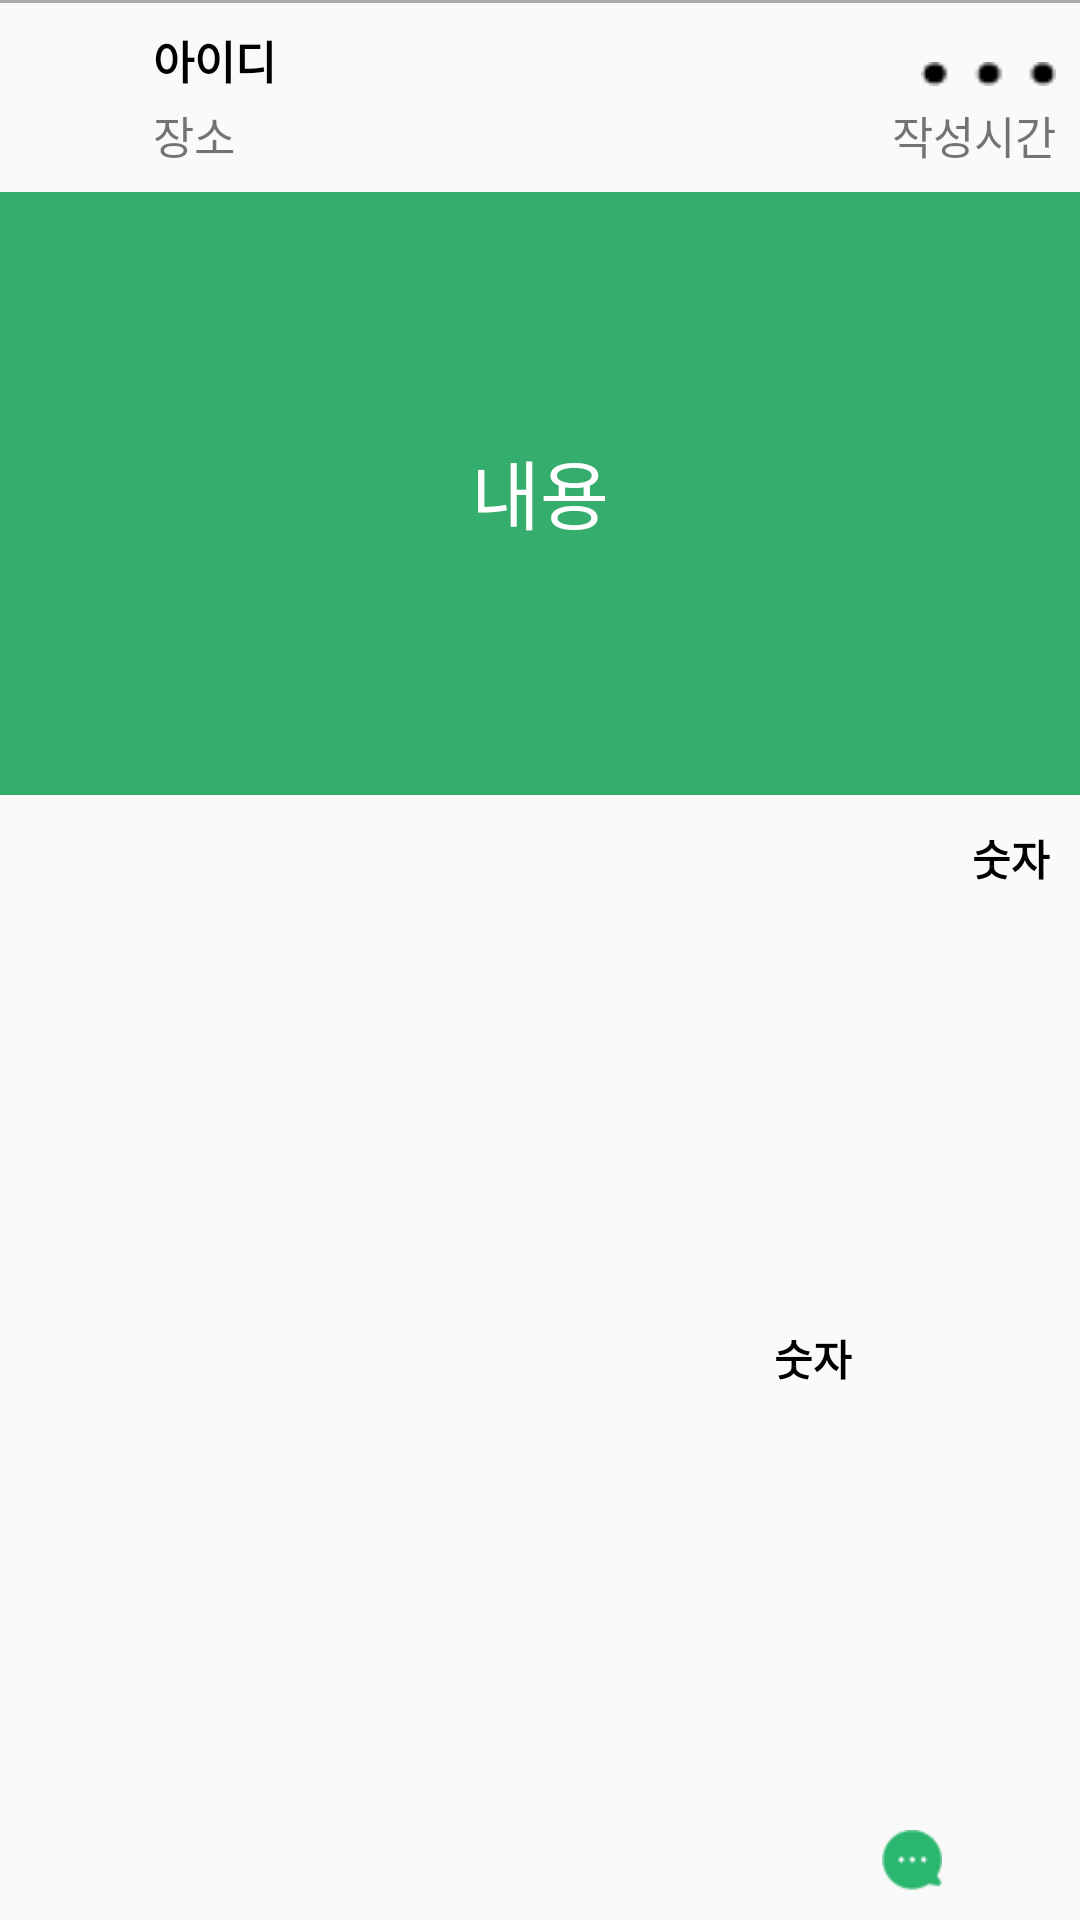

Named icons in this screenshot (1080px×1920px) and their centers, (x=x, y=y):
댓글: (x=912, y=1860)
